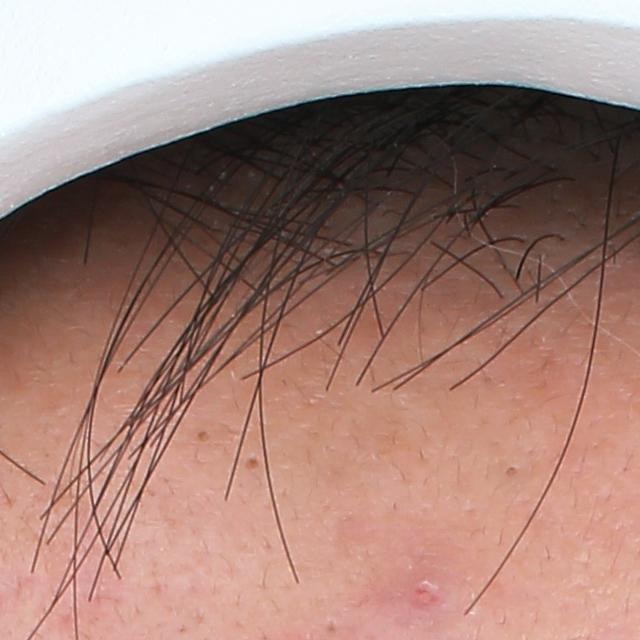comedo: (241, 451, 264, 475), (188, 425, 215, 444), (499, 461, 524, 479), (321, 616, 340, 637)
papule: (391, 569, 464, 621)
